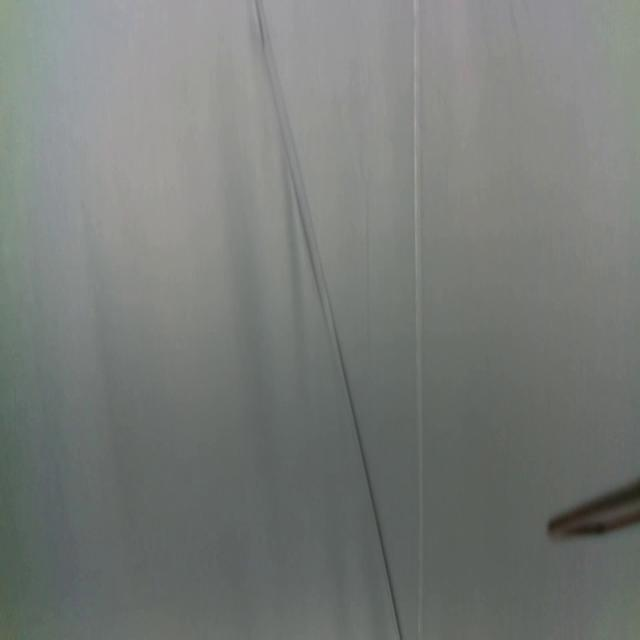crease: (254, 0, 402, 640), (412, 0, 426, 639)
